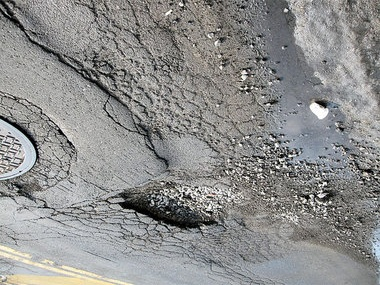pothole: (110, 176, 240, 234)
